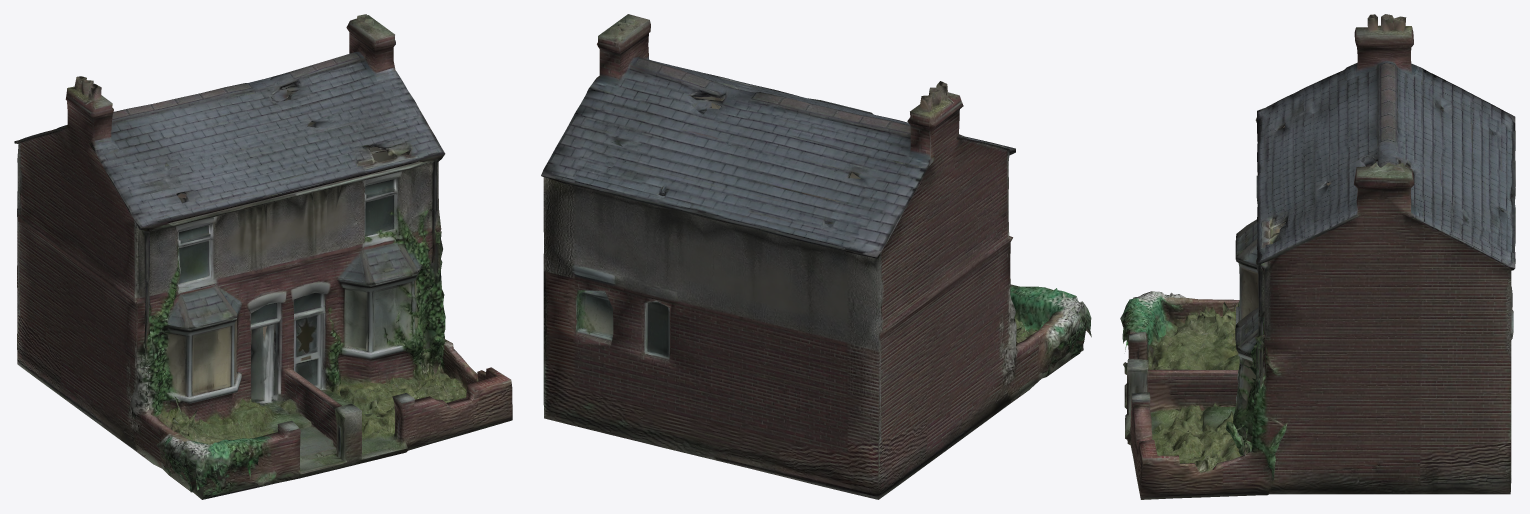
File: building_house.glb
3 renders of one model, left to right at view 1: azimuth 30°, elevation 25°; view 2: azimuth 150°, elevation 25°; view 3: azimuth 270°, elevation 25°, orthographic. The views are drawn at different scales.
Visible parts, largest first — view 1: Mesh_0; view 2: Mesh_0; view 3: Mesh_0.
Part boxes in pixels (left/top/right/bottom): Mesh_0: left=14, top=14, right=512, bottom=499; Mesh_0: left=541, top=14, right=1091, bottom=499; Mesh_0: left=1120, top=14, right=1515, bottom=499.
Size of the model in its own units: 15.76 by 15 by 16.18.
1 material, 1 textured.
